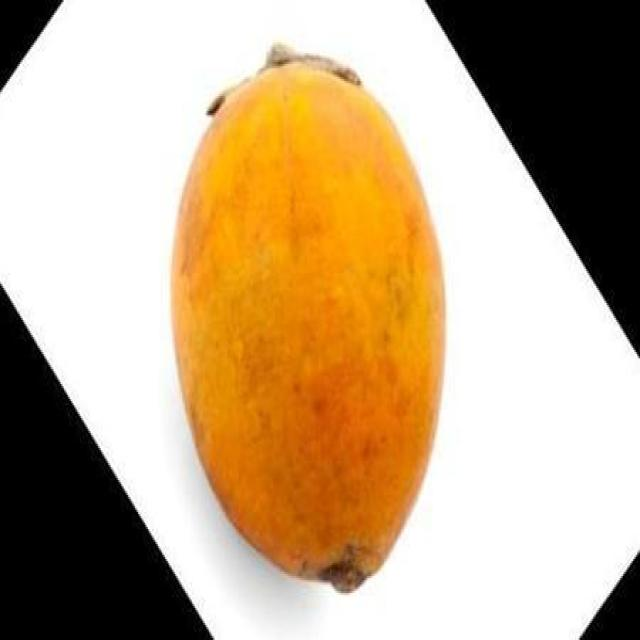good: (166, 58, 449, 597)
